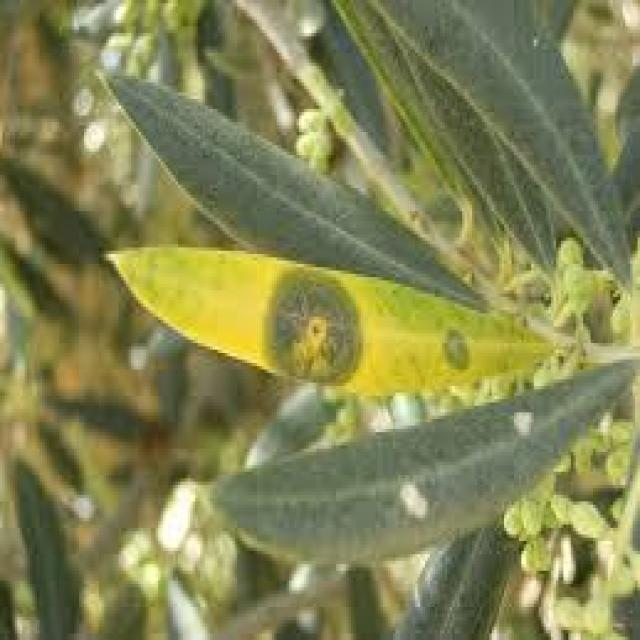Peacock Eye: (109, 247, 549, 393)
